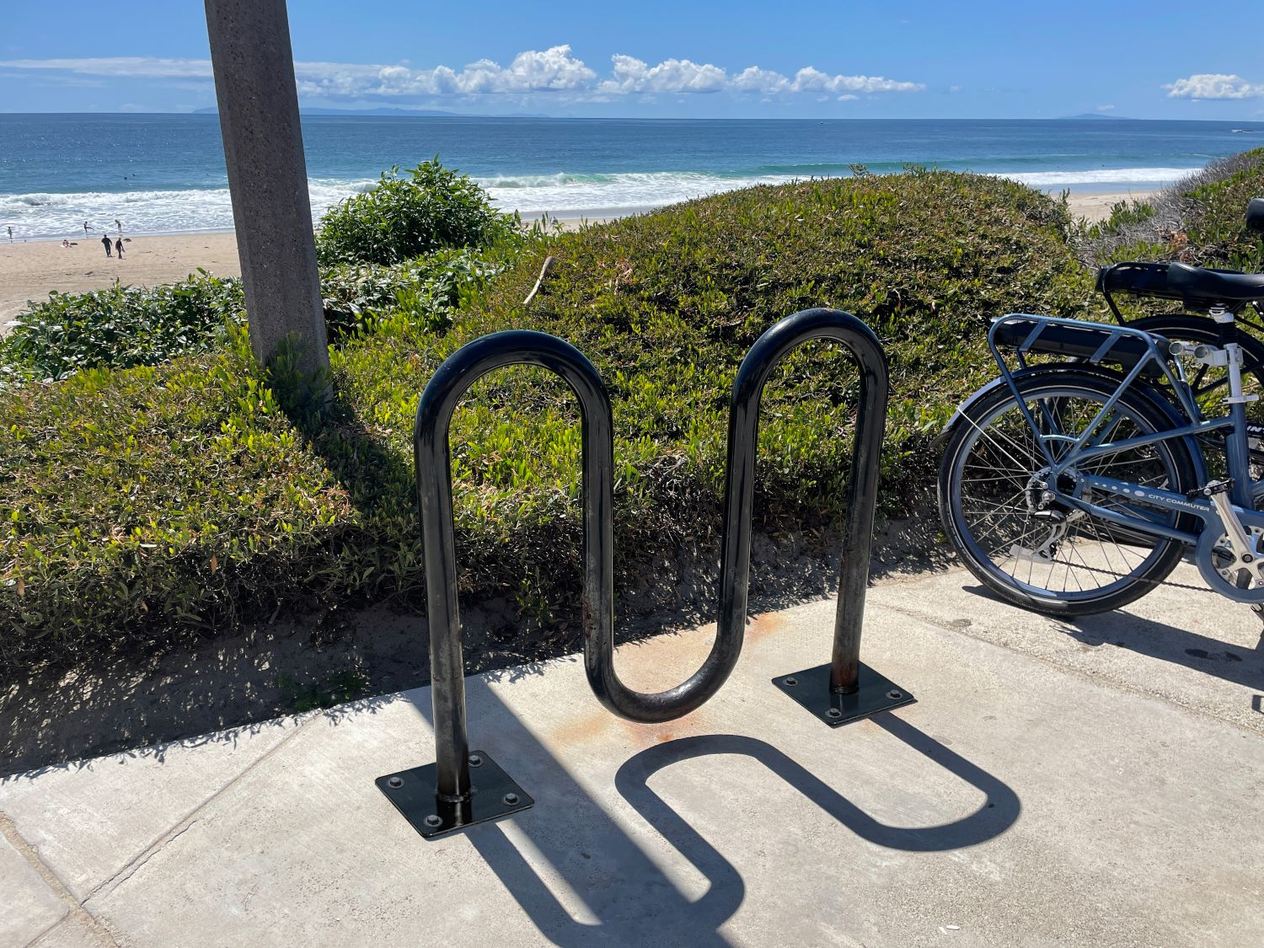Bicycle: (959, 239, 1264, 678)
